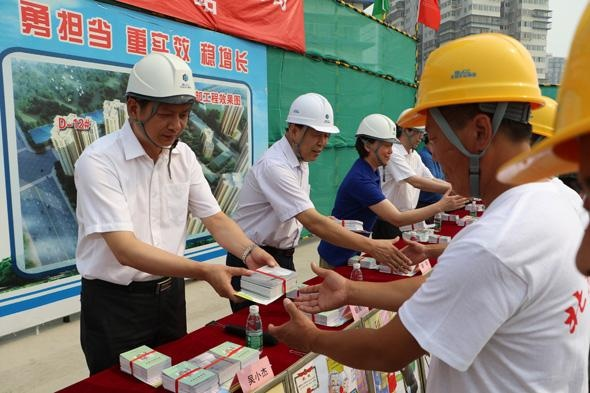white: (120, 48, 201, 152), (284, 89, 335, 163), (353, 115, 395, 167), (395, 108, 428, 149)
yellow: (417, 32, 540, 199)
